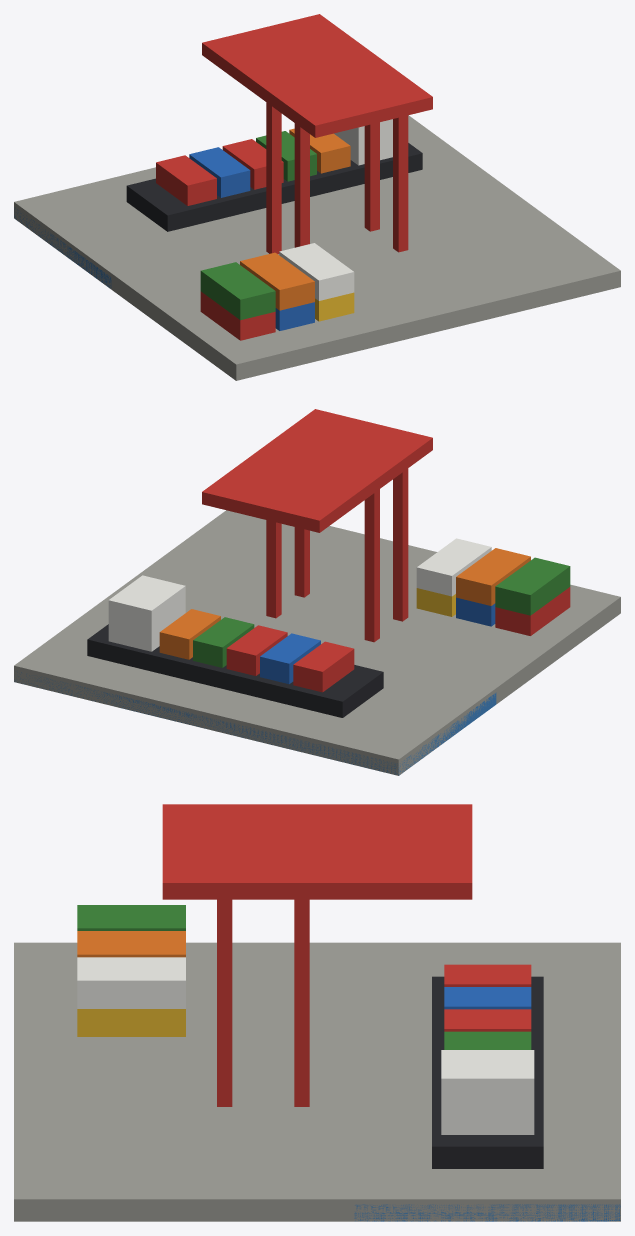
Rendered from port_novorossiysk.glb.
The picture shows the model from 3 angles, top to bottom: view 1: azimuth 30°, elevation 25°; view 2: azimuth 150°, elevation 25°; view 3: azimuth 270°, elevation 25°; orthographic projection. The views are drawn at different scales.
Parts seen in each view (by area): view 1: port_novorossiysk; view 2: port_novorossiysk; view 3: port_novorossiysk.
Part boxes in pixels (<box>): port_novorossiysk: <box>14,14,620,380</box>; port_novorossiysk: <box>14,409,620,775</box>; port_novorossiysk: <box>14,804,620,1221</box>.
Bounding box in the file's own units: 1.96 × 0.89 × 1.96.
